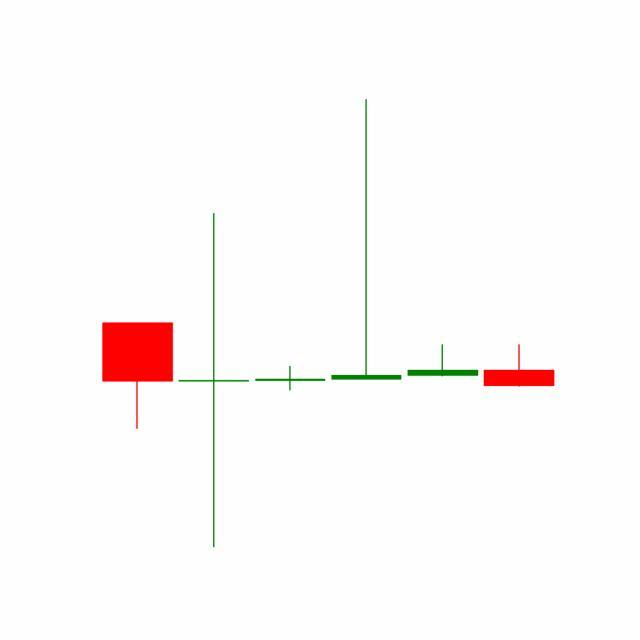Gravestone Doji: (404, 345, 482, 378)
